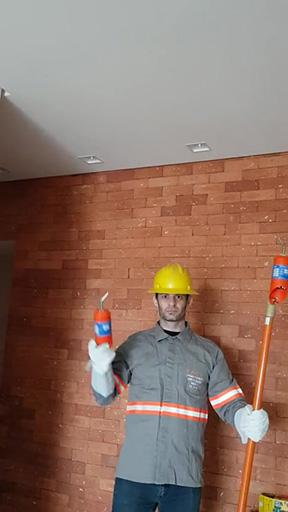Detector_Tensao_Contato: (266, 237, 288, 306), (92, 291, 113, 361)
Vara_Manobra: (238, 303, 277, 512)
